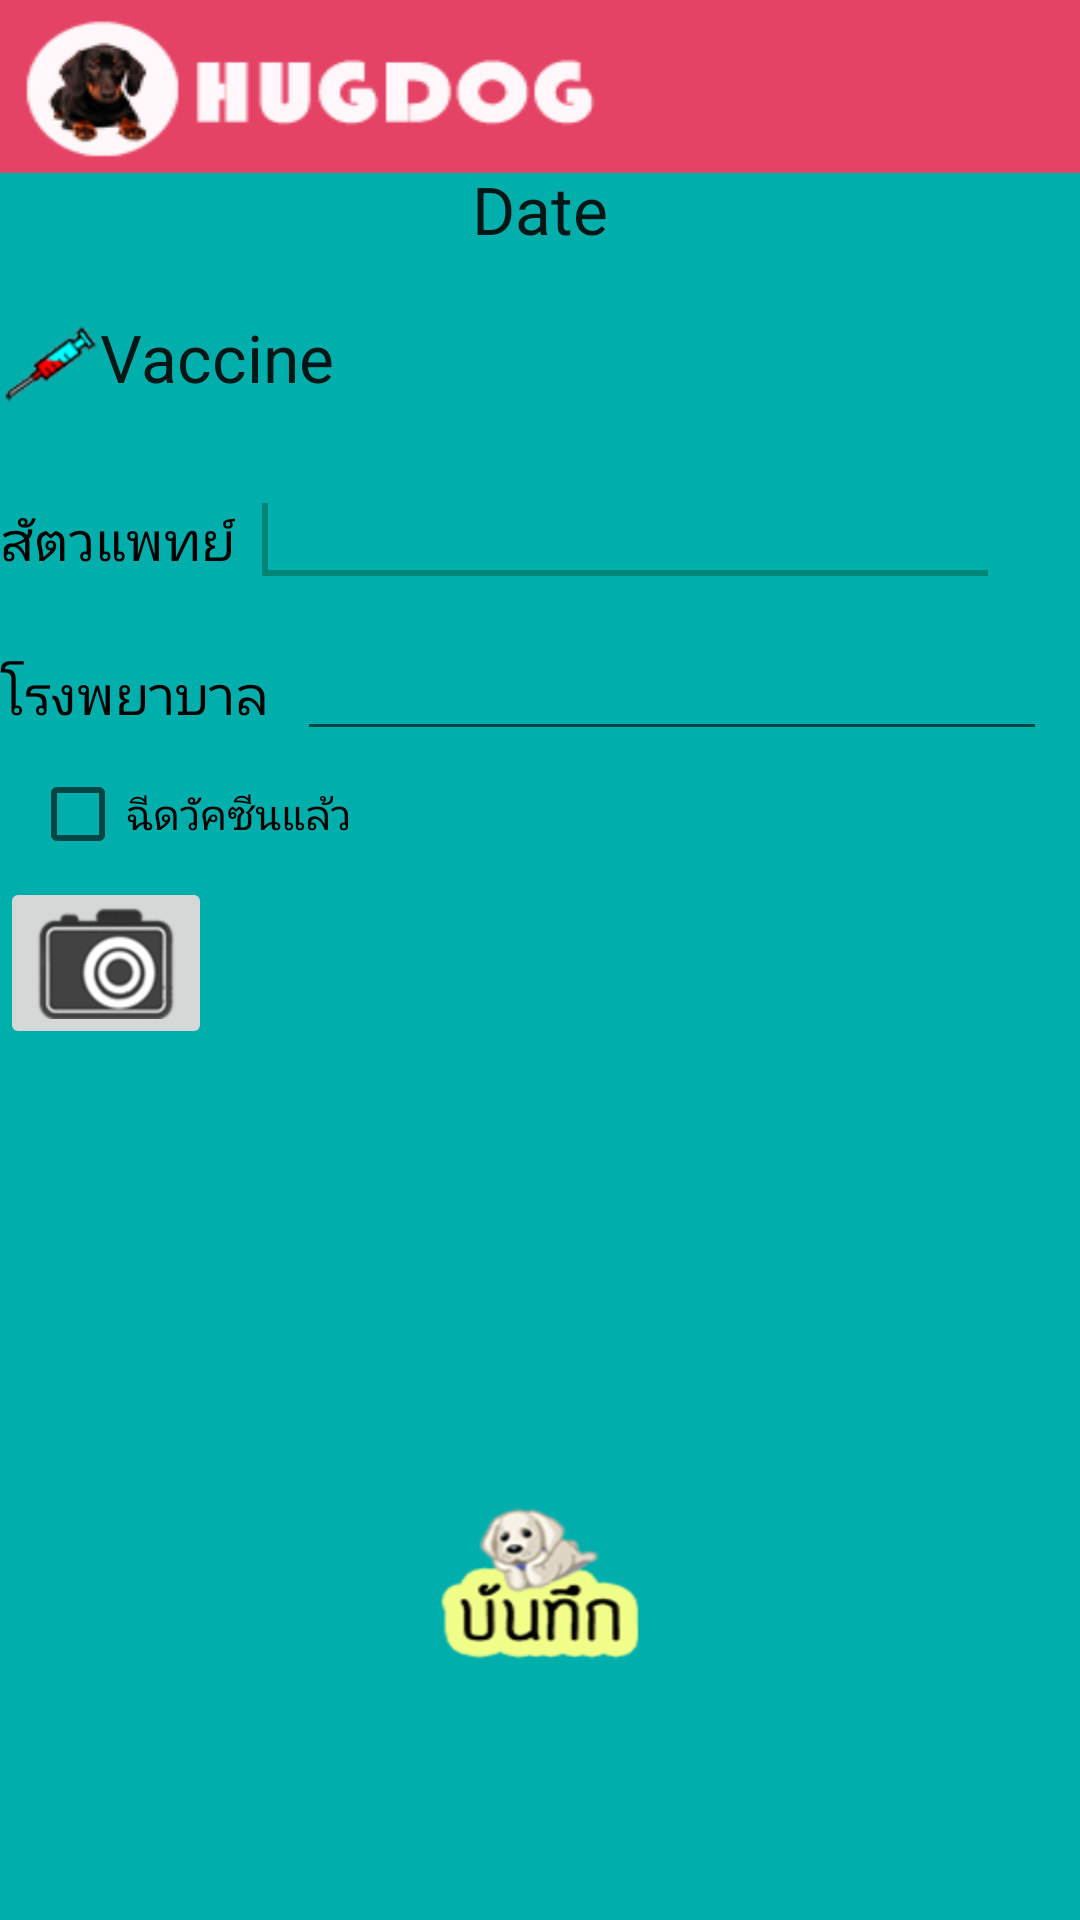

Point at icon controls on the screen. Image size 1080 × 1920, points as (x,y).
cam: (106,963)
